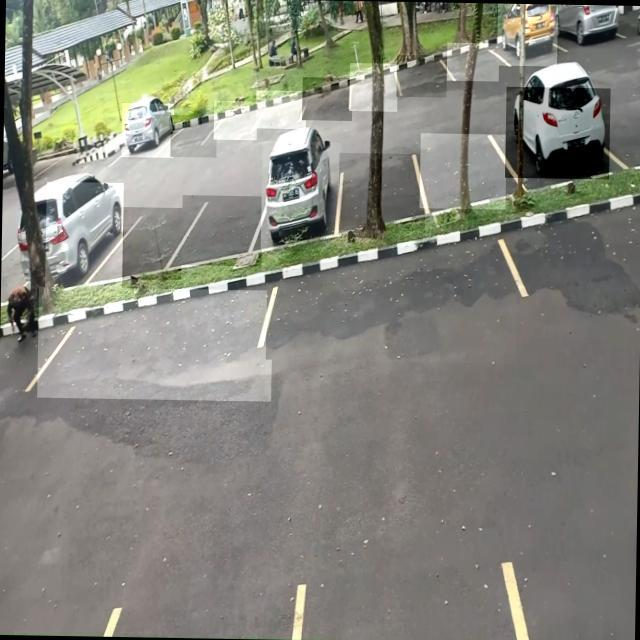empty: (266, 237, 518, 363), (37, 286, 272, 401), (338, 152, 426, 230), (419, 133, 506, 209), (181, 195, 262, 266), (110, 207, 182, 280), (348, 62, 398, 111), (302, 76, 352, 120), (396, 54, 447, 97), (170, 114, 217, 158), (446, 42, 499, 81), (256, 90, 306, 129), (213, 100, 257, 140)
occupied: (504, 86, 610, 179), (260, 141, 341, 250), (44, 182, 124, 290), (497, 3, 558, 66), (121, 102, 174, 158)
